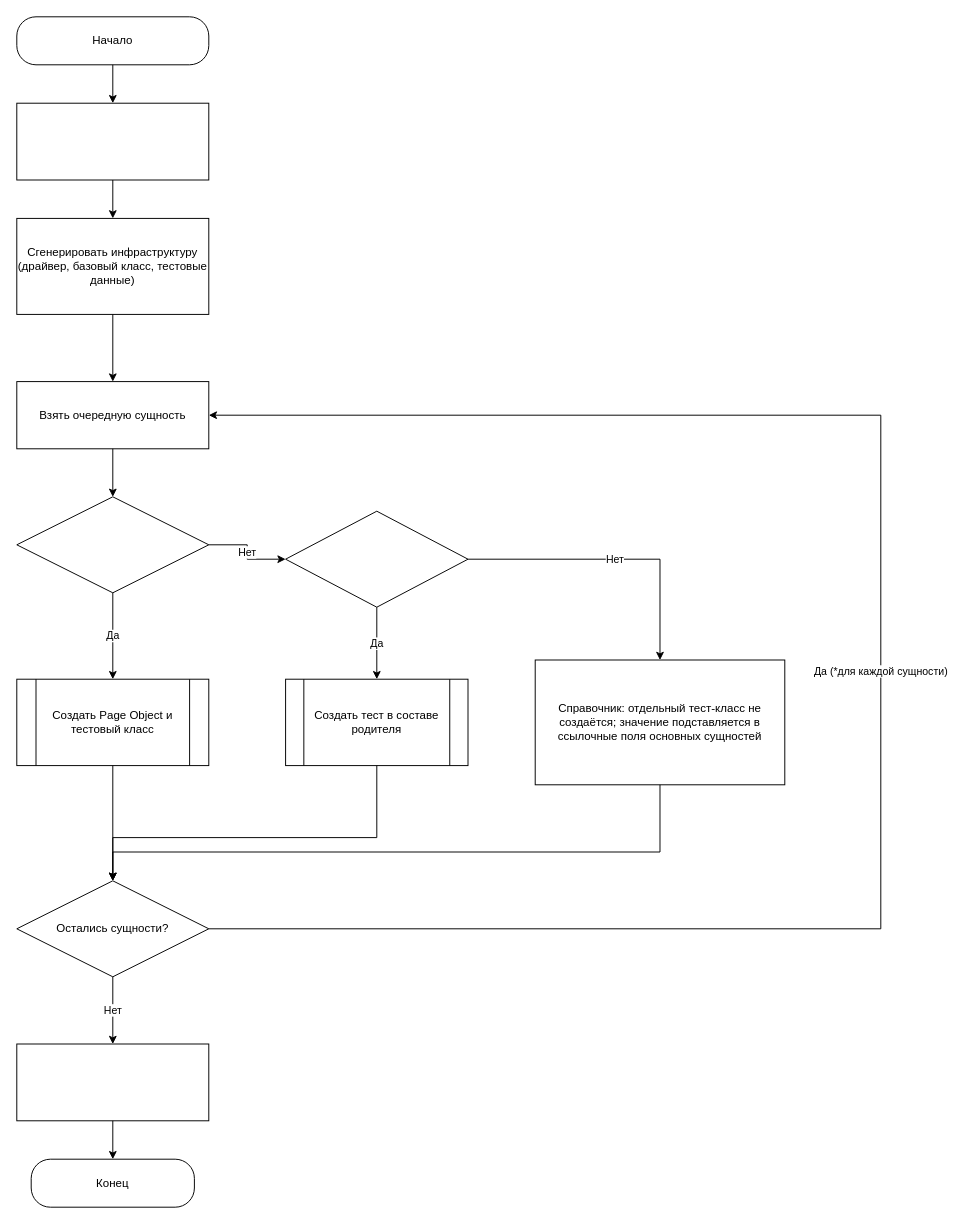
This 964x1224 diagram has some shape labels left out. The centre of each missing label's shape, as x and y in pixels:
"Дочерняя?" goes at (376,558).
"Основная?" goes at (112,544).
"Создать структуру проекта (файл сборки, конфигурации)" goes at (112,141).
"Сохранить отчёт о классификации" goes at (112,1082).
